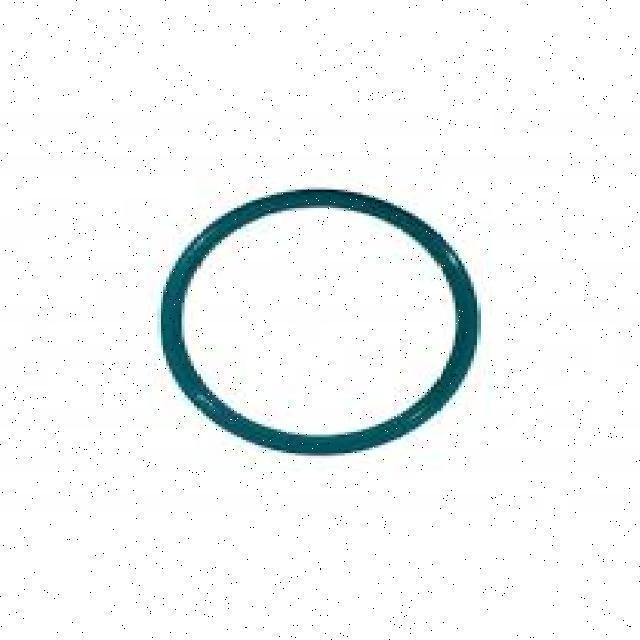Circle: (158, 185, 480, 466)
